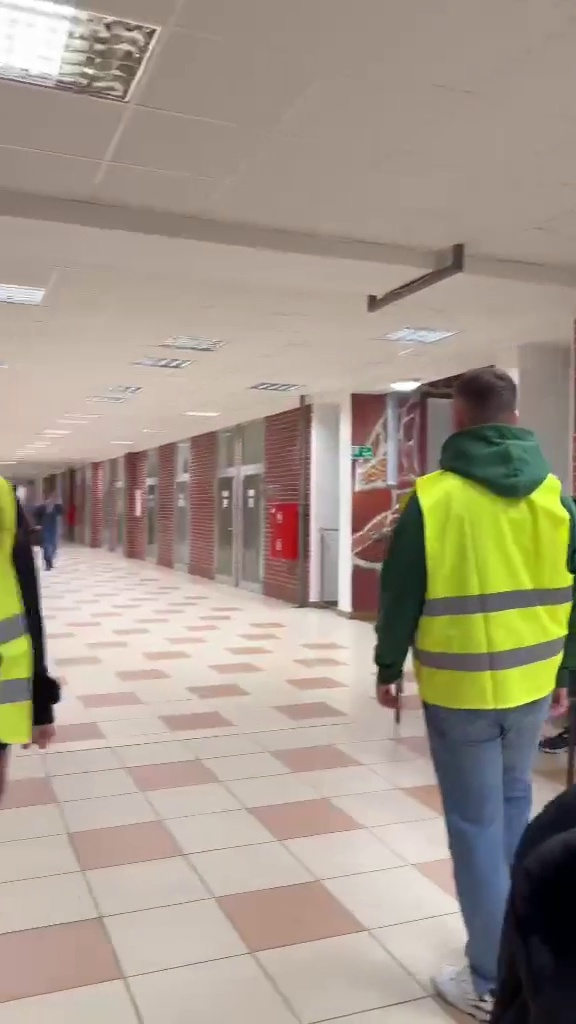vest: (390, 358, 576, 1009), (0, 428, 89, 841)
